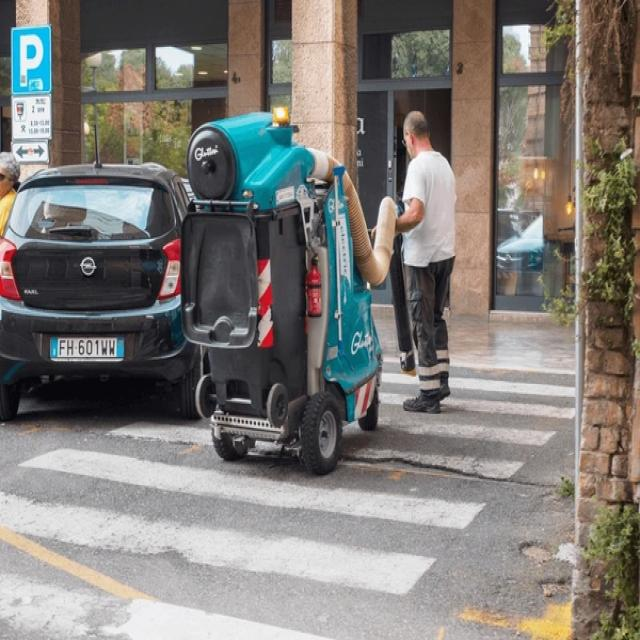opel: (80, 258, 96, 277)
